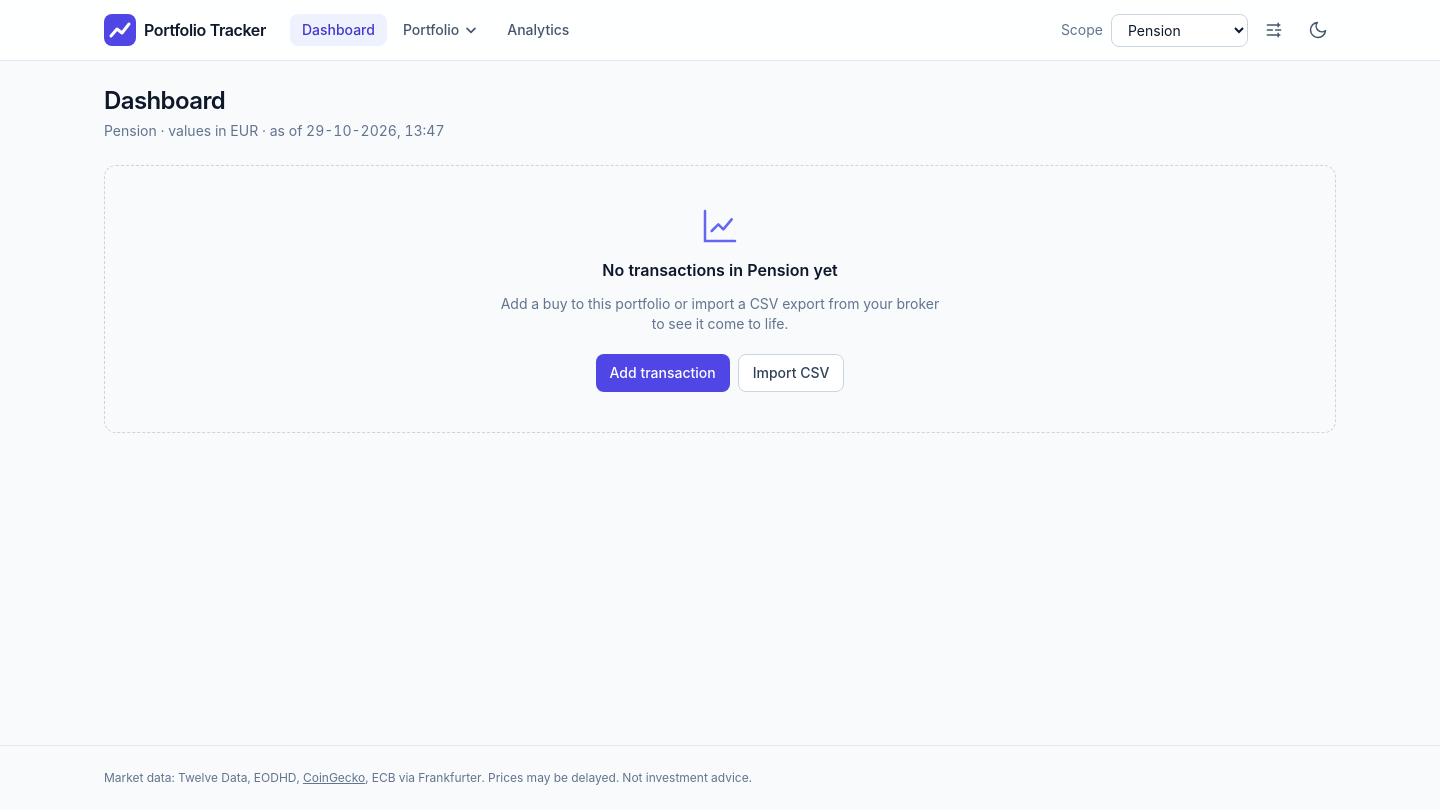
portfolio-scoped pages › shows empty states naming an empty portfolio, with links that keep the scope
The width and height of the screenshot is (1440, 810).
Check: the heading "No transactions in Pension yet" is shown, box [602,258,838,282]
Check: the text "Pension · values in EUR · as of 29-10-2026, 13:47" is shown, box [104,121,444,141]
Step 1. Click the button "Portfolio" → click(441, 30), box [391,14,491,46]
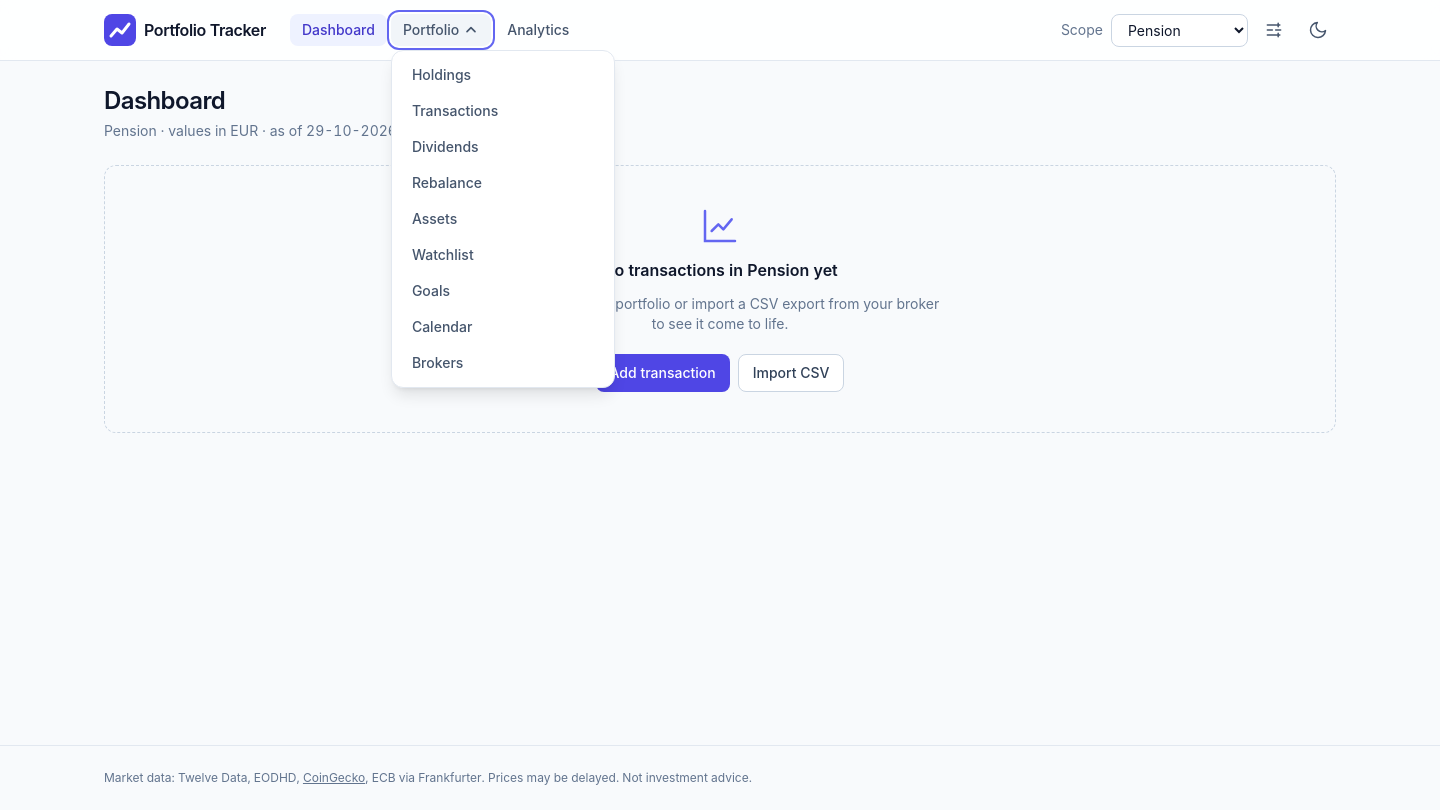
Step 2. Click the link "Holdings" → click(442, 74), box [412,66,471,83]
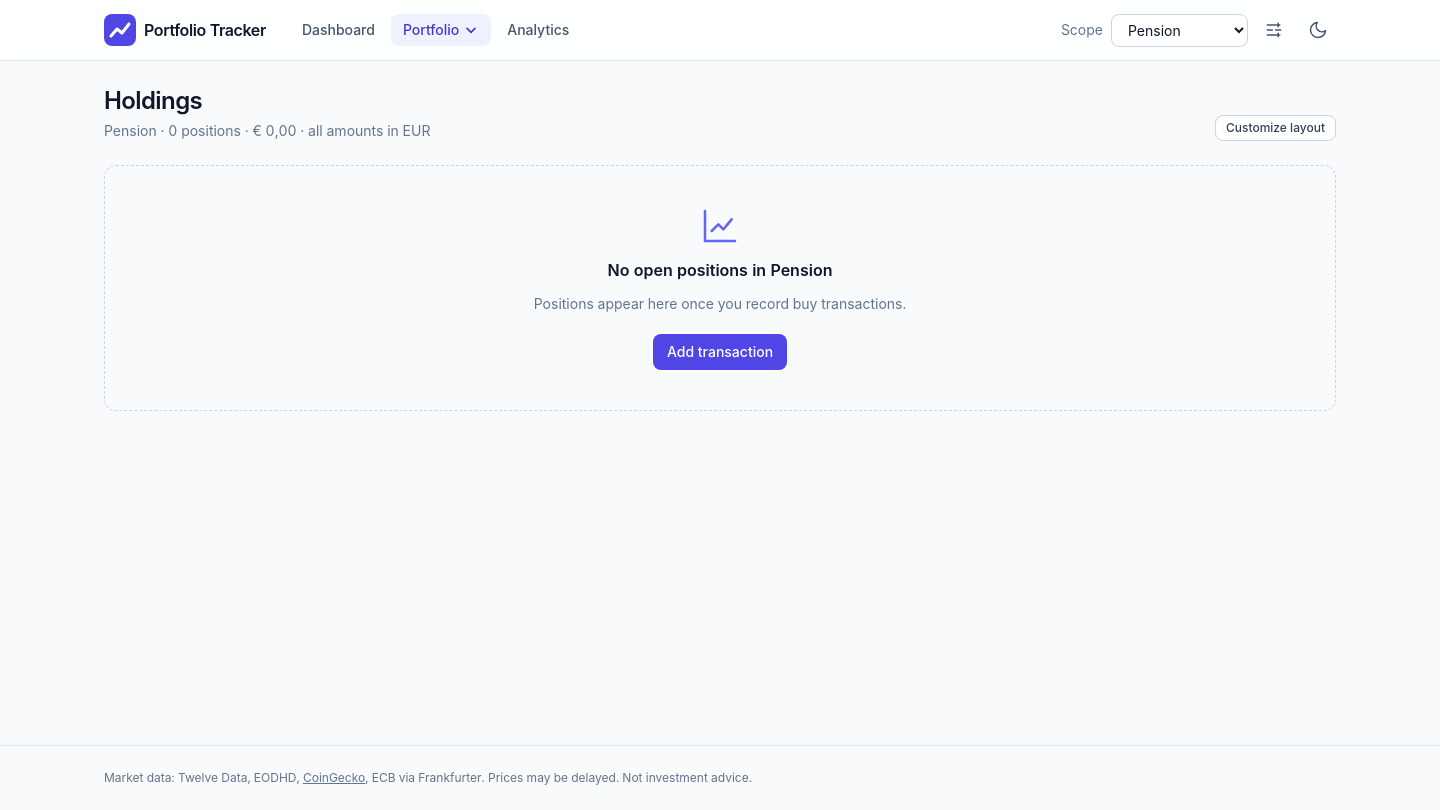
Check: the heading "No open positions in Pension" is shown, box [608,258,832,282]
Step 3. Click the button "Portfolio" → click(441, 30), box [391,14,491,46]
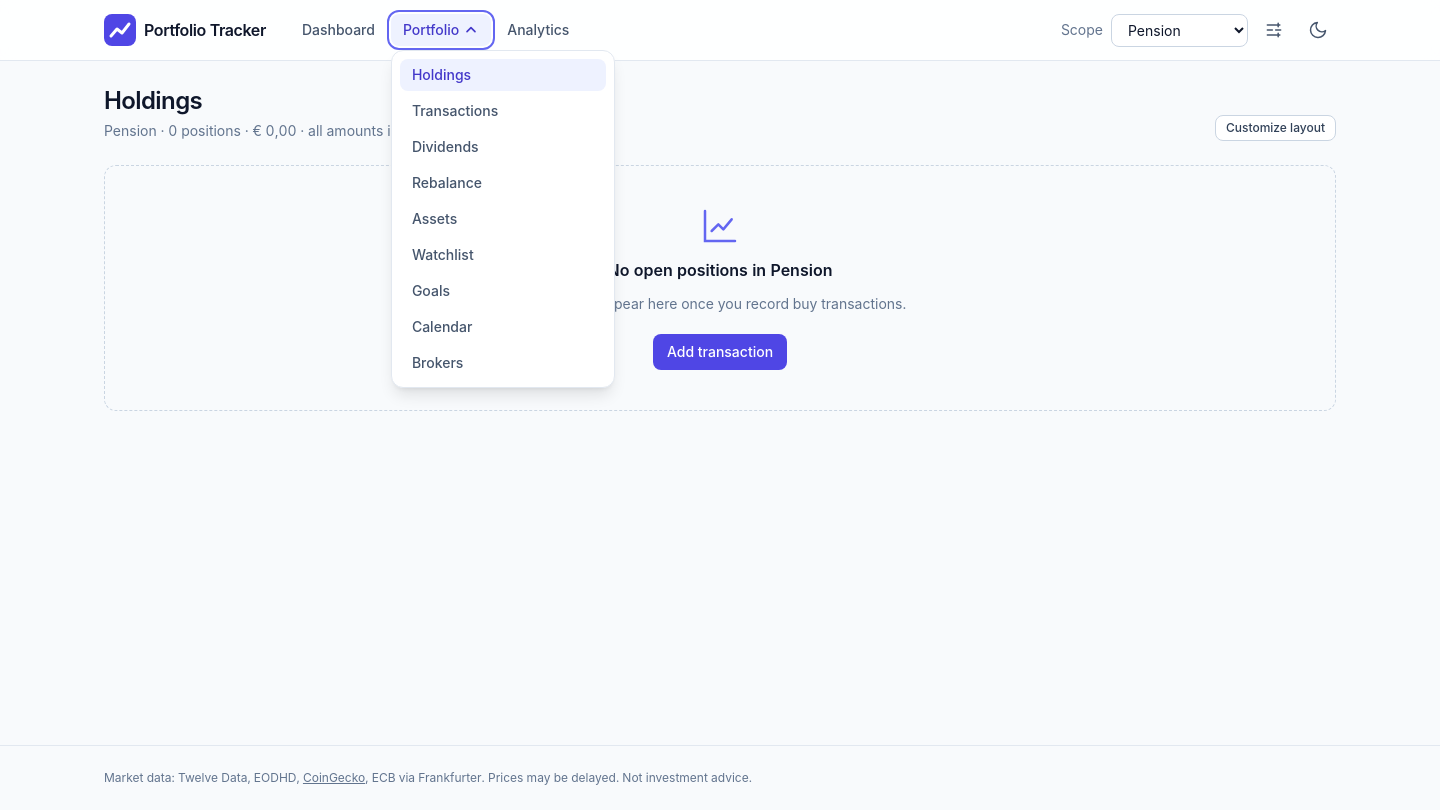
Step 4. Click the link "Dividends" → click(445, 146), box [412,138,479,155]
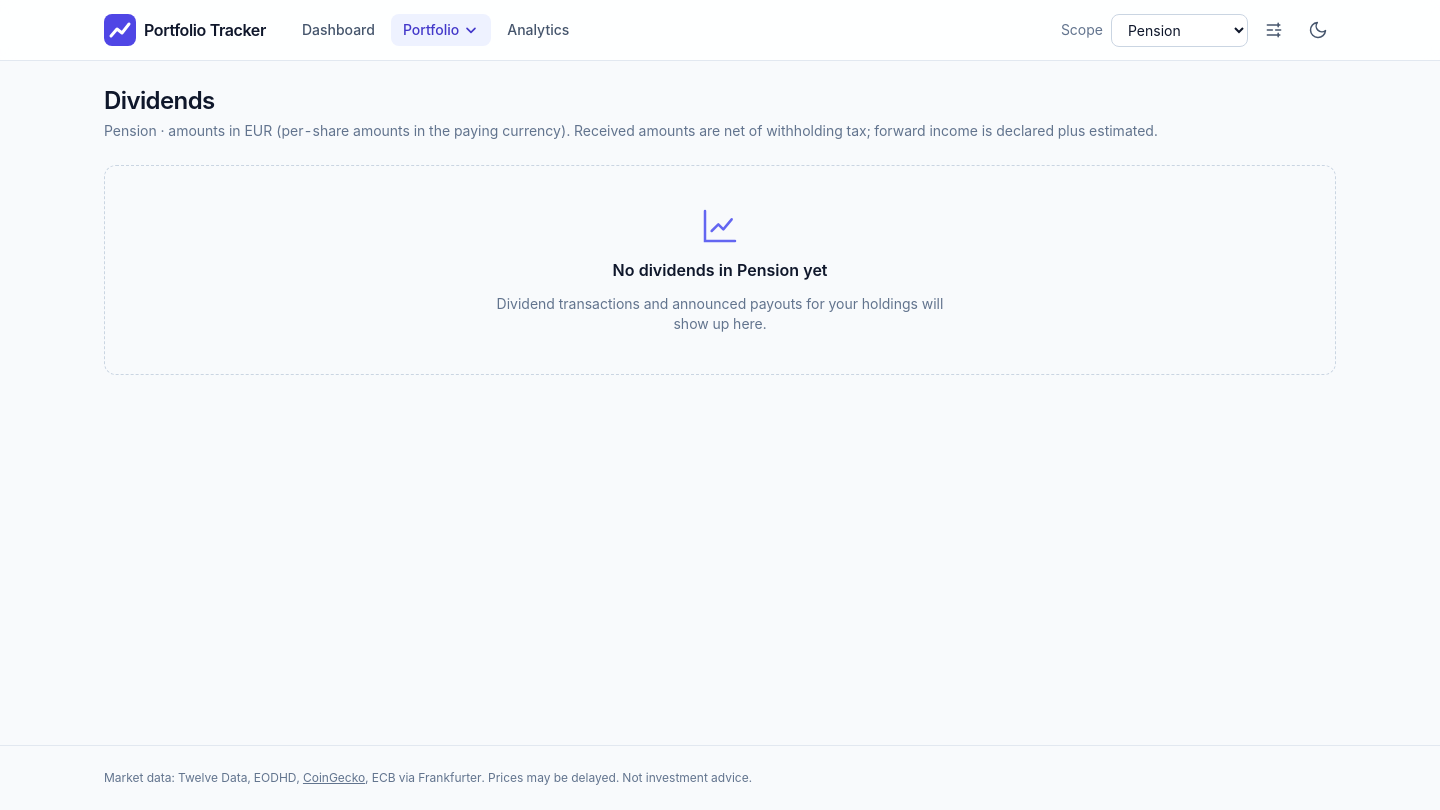
Check: the heading "No dividends in Pension yet" is shown, box [612,258,828,282]
Check: the text "Pension · amounts in EUR" is shown, box [104,122,1158,139]
Step 5. Click the button "Portfolio" → click(441, 30), box [391,14,491,46]
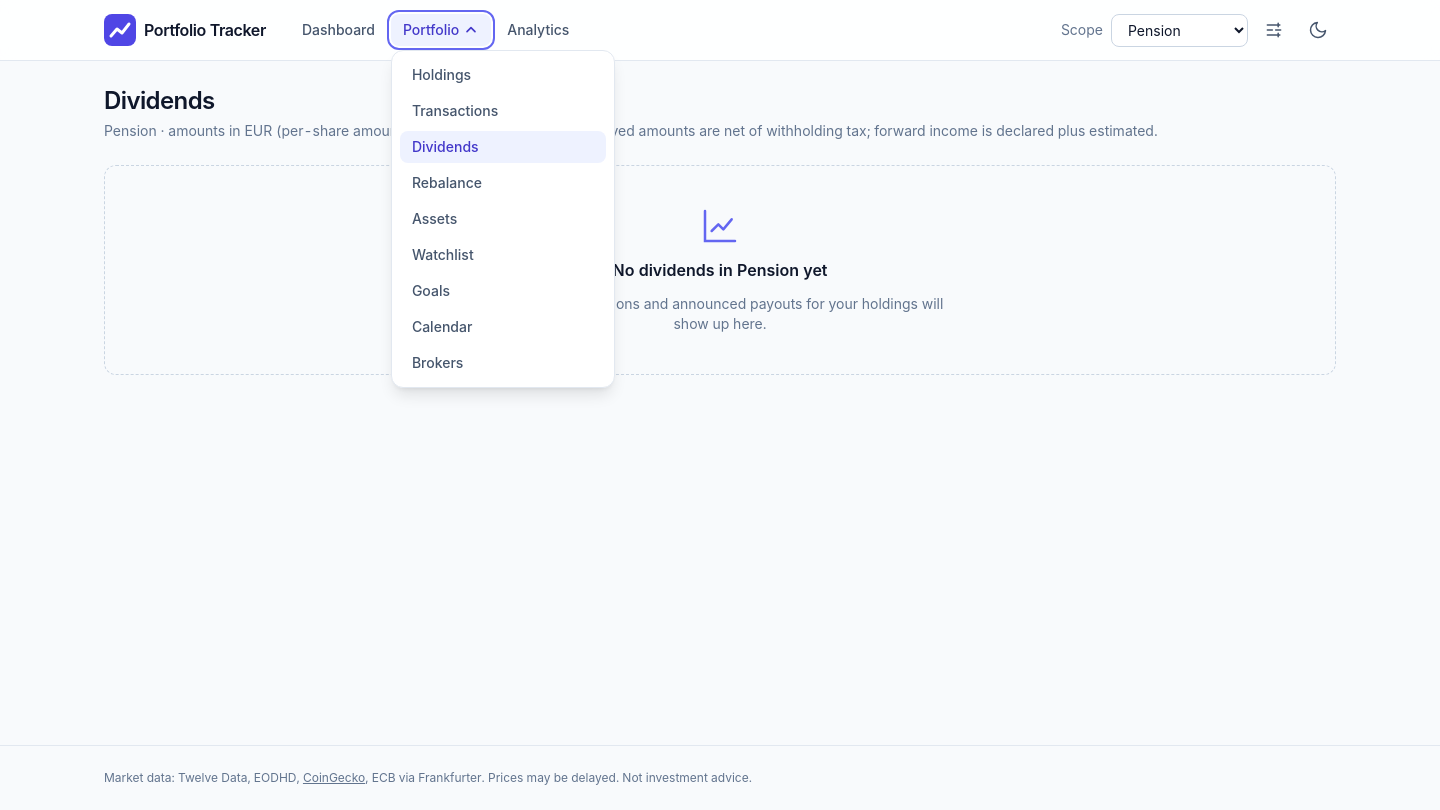
Step 6. Click the link "Transactions" → click(455, 110), box [412,102,498,119]
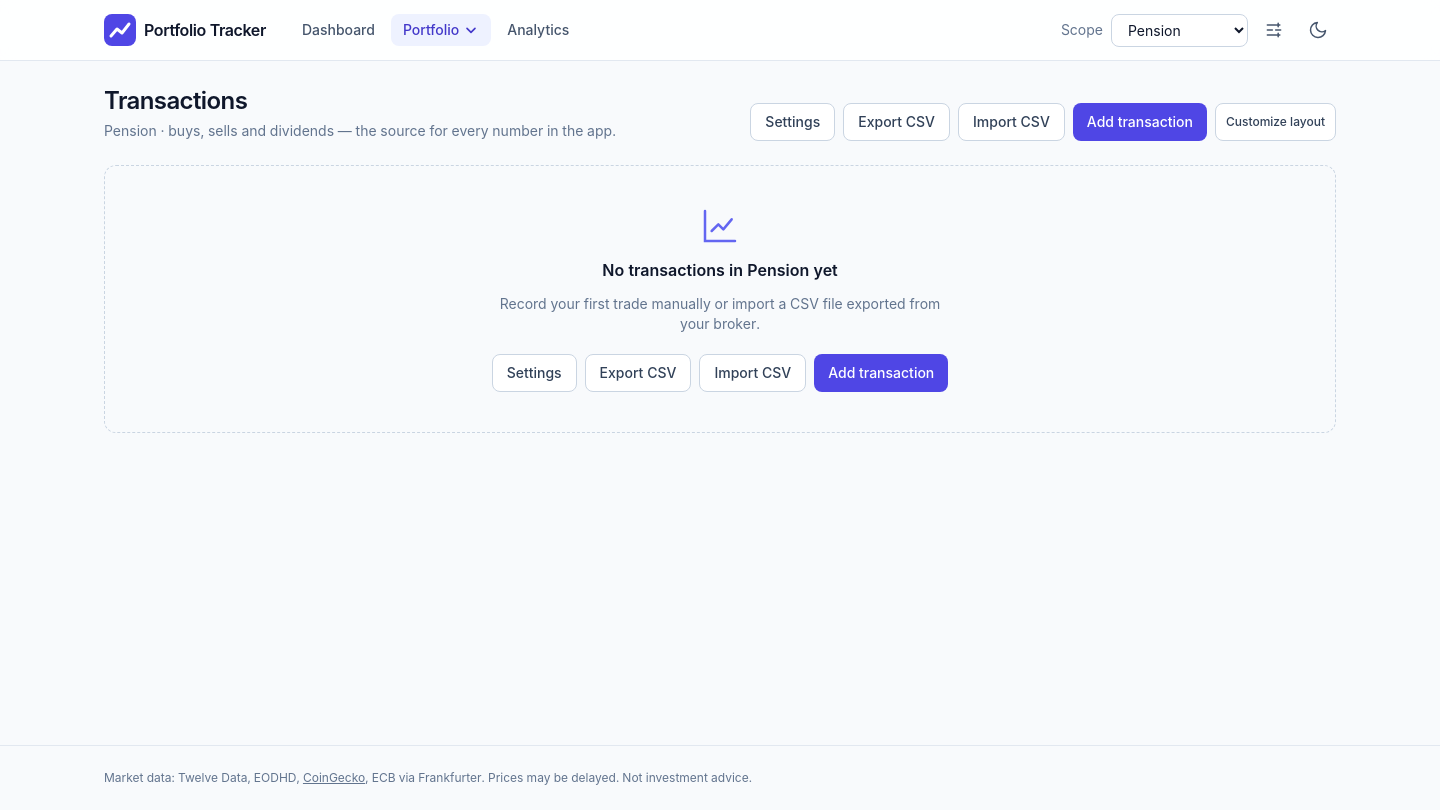
Check: the heading "No transactions in Pension yet" is shown, box [602,258,838,282]
Check: the text "Pension · buys, sells and dividends" is shown, box [104,122,616,139]
